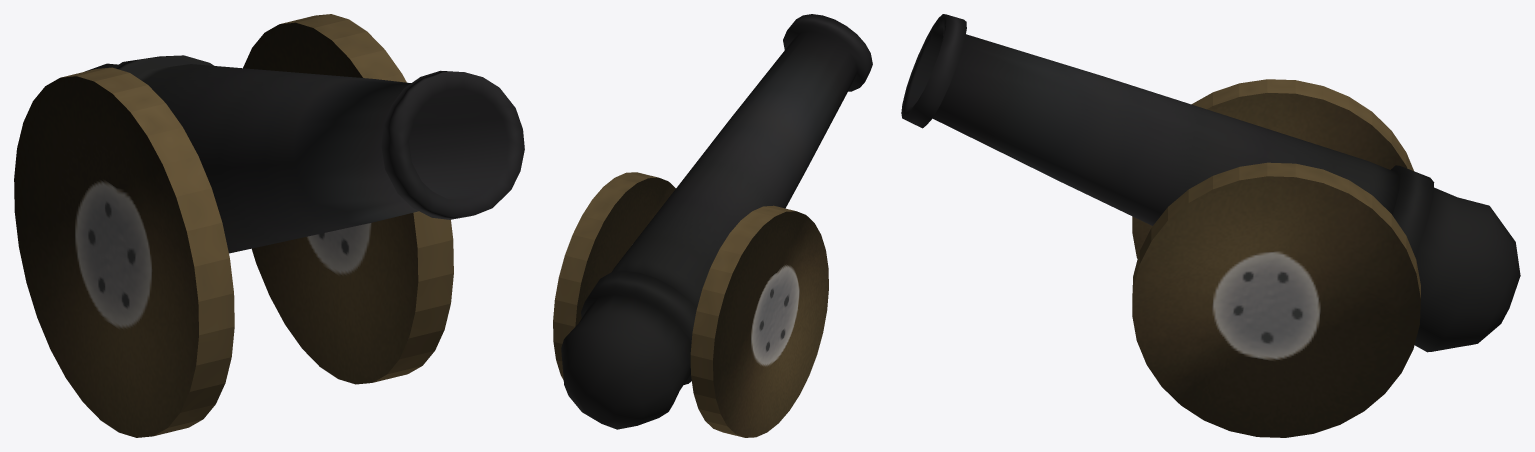
Rendered from Cannon.fbx.
The picture shows the model from 3 angles, left to right: view 1: azimuth 30°, elevation 25°; view 2: azimuth 150°, elevation 25°; view 3: azimuth 270°, elevation 25°; orthographic projection. The views are drawn at different scales.
Visible parts, largest first — view 1: Cylinder; view 2: Cylinder; view 3: Cylinder.
Boxes of the visible parts, <box> form: Cylinder: <box>14,14,524,437</box>; Cylinder: <box>553,14,872,437</box>; Cylinder: <box>901,14,1520,437</box>.
Size of the model in its own units: 7.15 by 12.71 by 19.26.
